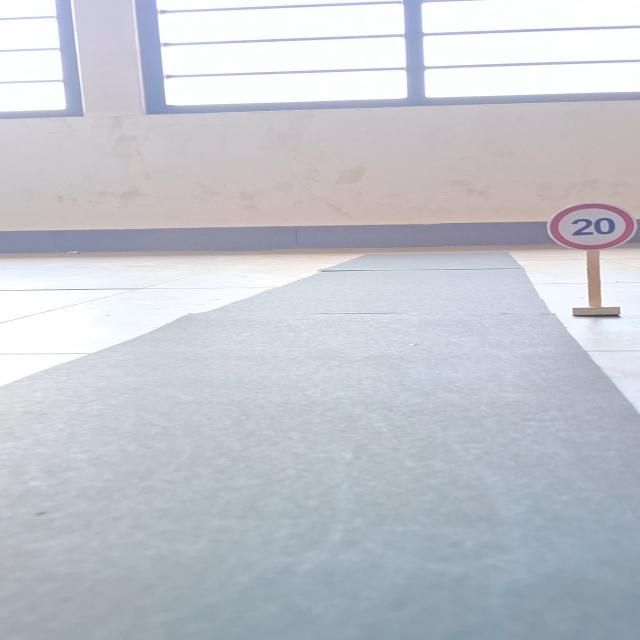Speed20: (537, 200, 640, 252)
